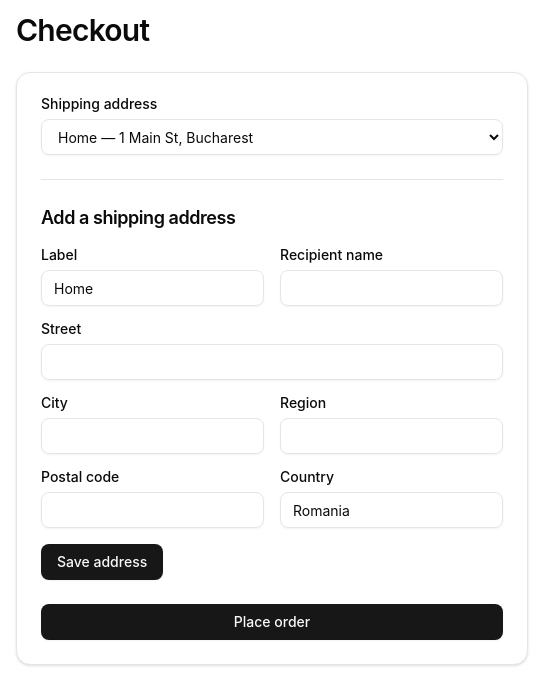
it: CheckoutPage › places an order and shows the result
The image size is (545, 683).
Step 1. Click the button "Place order" → (272,622), box [41,604,503,640]
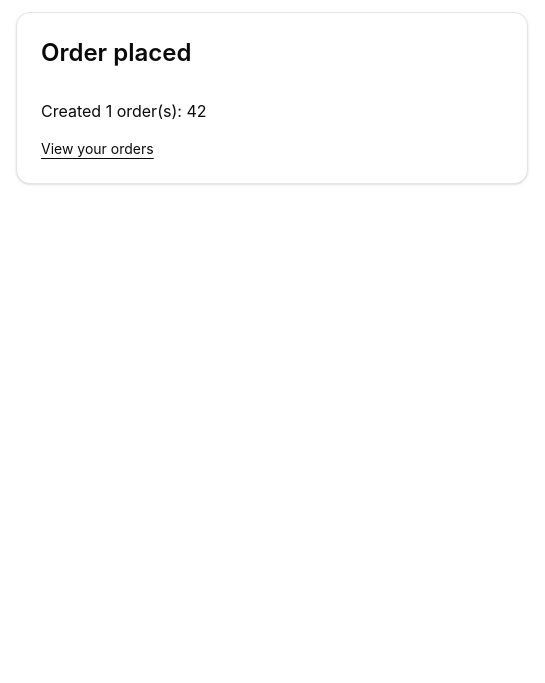
Check: the text "Order placed" is shown, box [41,38,191,67]
Check: the text "Created 1 order(s): 42" is shown, box [41,101,206,121]
